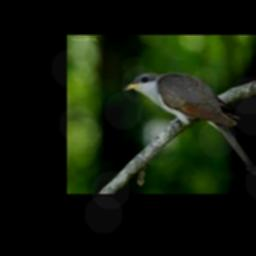Cuckoo: (123, 71, 256, 176)
